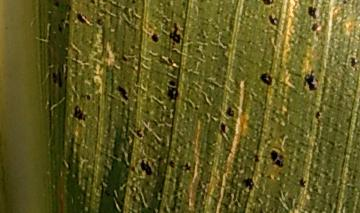tarspot: (302, 69, 319, 91), (71, 104, 89, 124), (166, 79, 180, 103), (168, 22, 182, 44), (269, 149, 285, 168), (50, 69, 64, 88), (258, 71, 274, 87), (115, 84, 130, 101), (73, 12, 90, 27), (140, 158, 153, 176), (242, 176, 254, 191), (306, 5, 318, 20), (267, 14, 279, 27), (223, 106, 236, 118), (219, 121, 227, 135), (298, 177, 308, 188), (133, 127, 143, 138), (182, 162, 192, 172), (50, 1, 62, 9), (56, 22, 64, 34), (151, 32, 159, 43), (313, 110, 322, 119), (95, 17, 104, 26), (310, 22, 318, 32), (167, 159, 175, 169), (349, 56, 356, 67), (84, 94, 92, 103), (260, 1, 274, 6), (253, 153, 260, 163), (120, 54, 128, 62), (65, 12, 71, 22), (63, 21, 70, 28), (59, 17, 66, 23), (88, 1, 96, 5), (341, 1, 347, 6), (67, 4, 71, 11), (130, 1, 136, 5)
